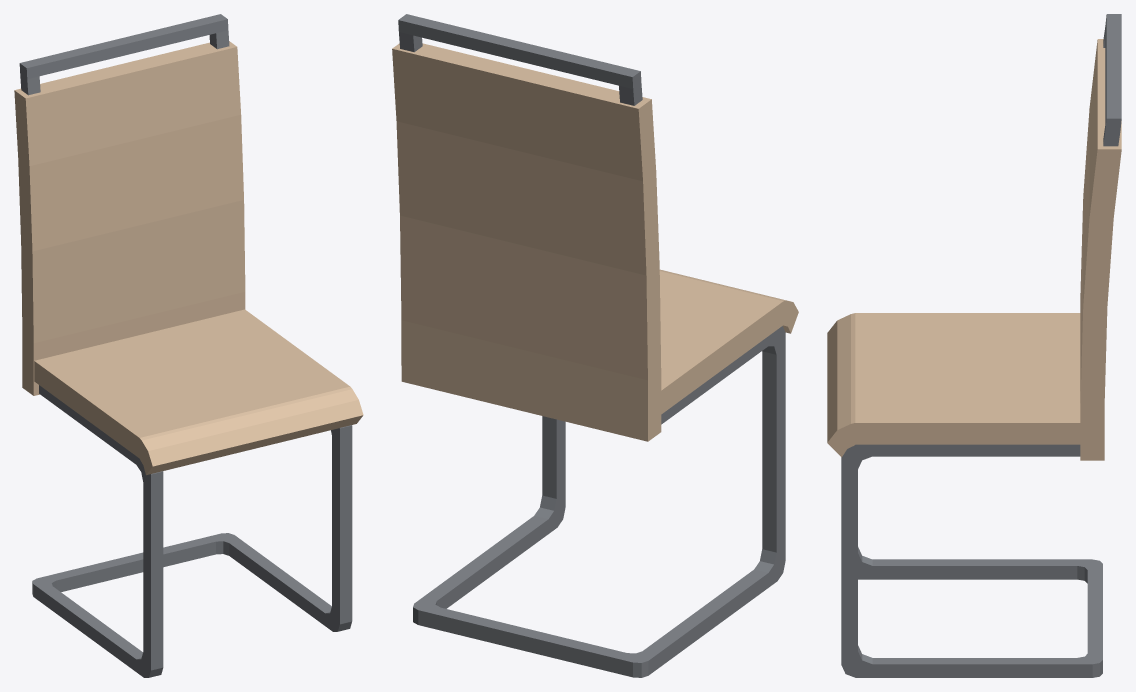
The model's file is Chair_06_C2.fbx.
3 renders of one model, left to right at view 1: azimuth 30°, elevation 25°; view 2: azimuth 150°, elevation 25°; view 3: azimuth 270°, elevation 25°, orthographic. The views are drawn at different scales.
Visible parts, largest first — view 1: Chair_06_C2; view 2: Chair_06_C2; view 3: Chair_06_C2.
Boxes of the visible parts, x1,y1,x2,y2 form: Chair_06_C2: (14, 14, 363, 677); Chair_06_C2: (392, 14, 798, 677); Chair_06_C2: (827, 14, 1121, 677).
Bounding box in the file's own units: 43.13 × 102 × 48.71.
